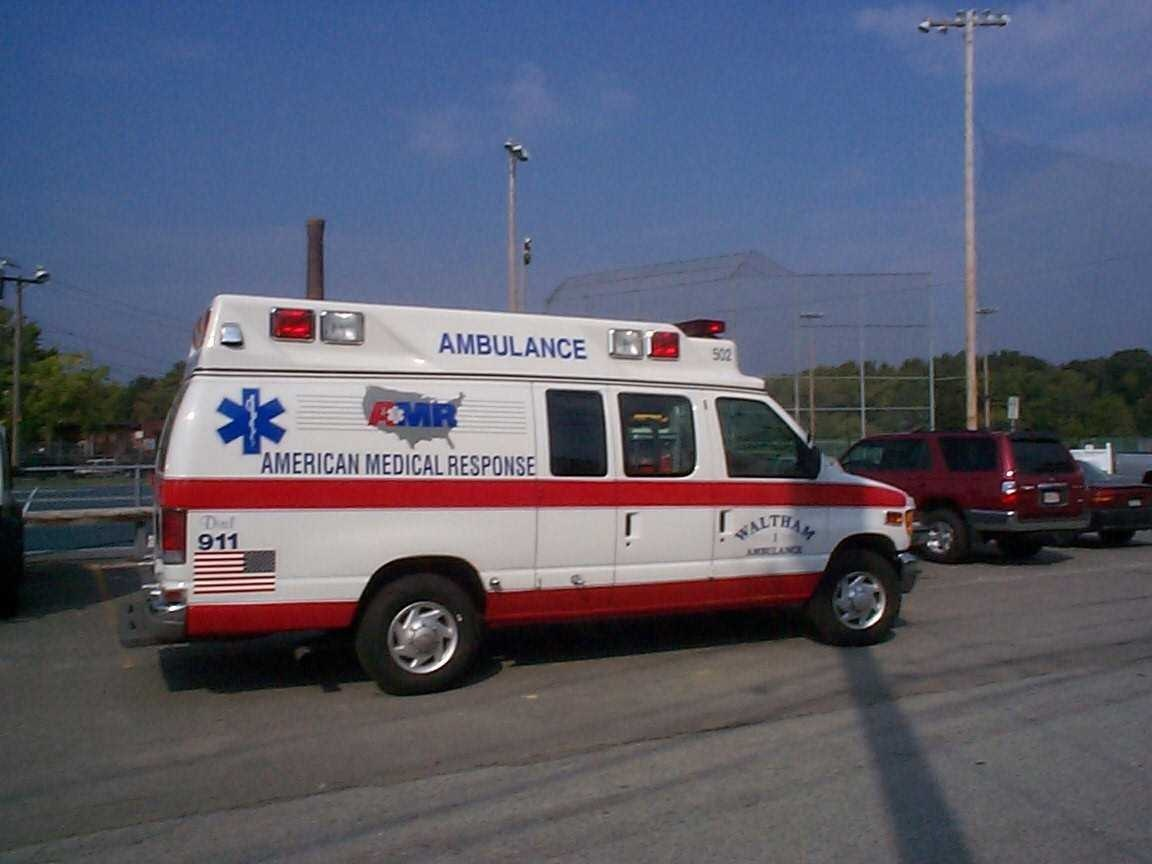Ambulance: (132, 285, 945, 677)
